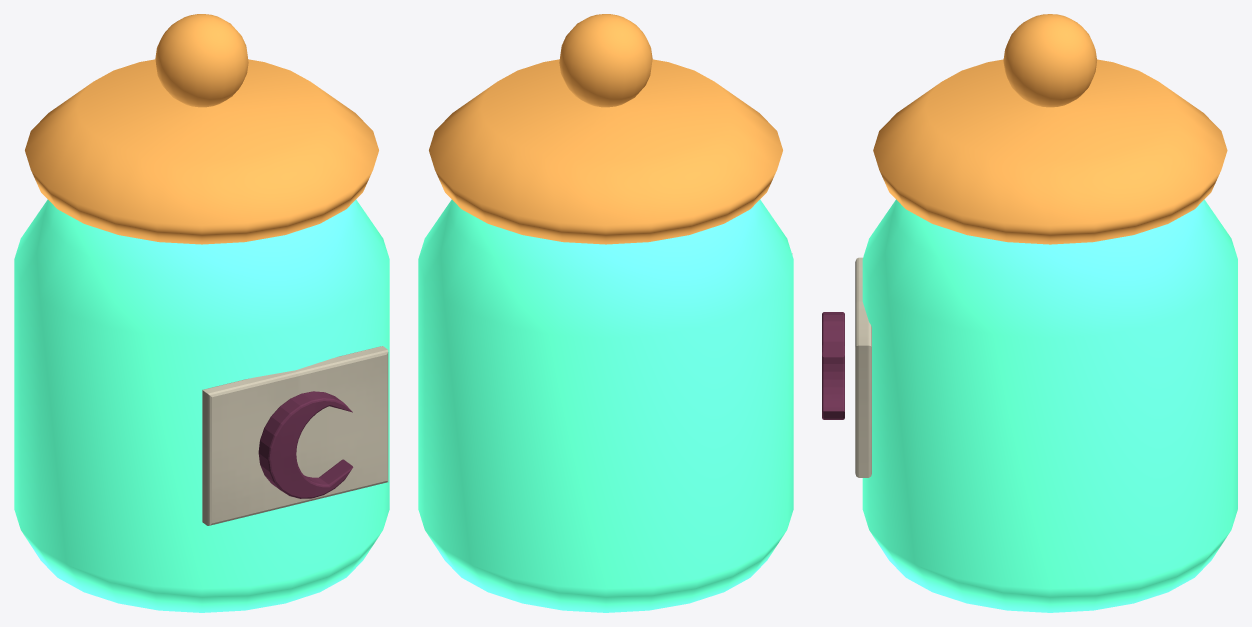
Rendered from hollowwick-halloween-lidded-sweet-jar-20e55f97__21652.glb.
The picture shows the model from 3 angles, left to right: view 1: azimuth 30°, elevation 25°; view 2: azimuth 150°, elevation 25°; view 3: azimuth 270°, elevation 25°; orthographic projection.
Visible parts, largest first — view 1: lidded-sweet-jar; view 2: lidded-sweet-jar; view 3: lidded-sweet-jar.
Part boxes in pixels (<box>): lidded-sweet-jar: <box>14,14,389,612</box>; lidded-sweet-jar: <box>418,14,793,612</box>; lidded-sweet-jar: <box>822,14,1237,612</box>.
Bounding box in the file's own units: 0.36 × 0.555 × 0.399.
Materials: 4 (2 with a texture image).
